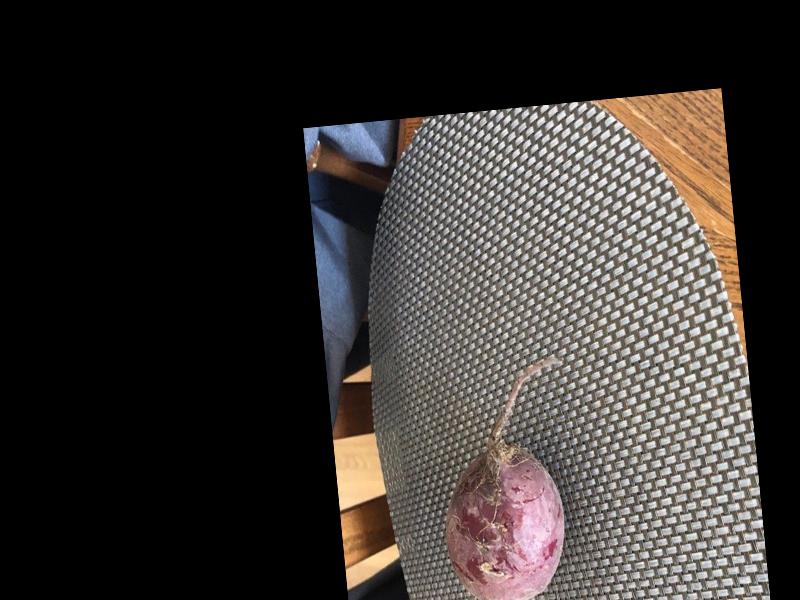Beet: (428, 356, 585, 600)
